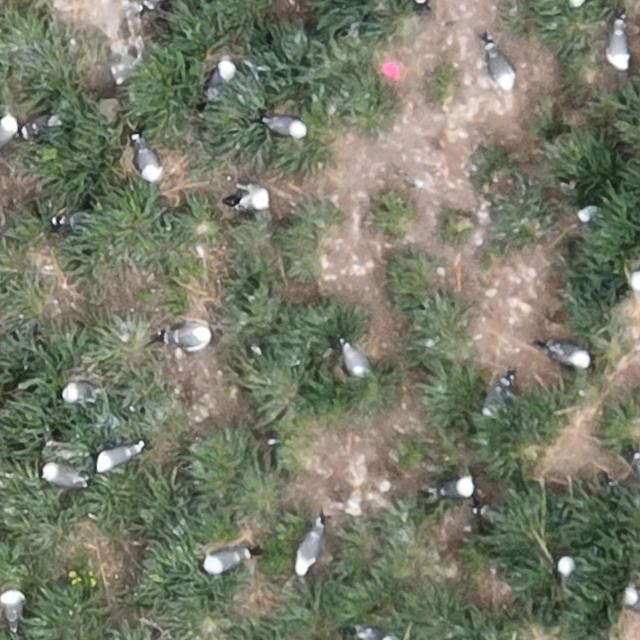umineko: (481, 375, 514, 416), (296, 527, 322, 571), (170, 325, 212, 348), (489, 48, 513, 87), (207, 549, 246, 571), (136, 144, 158, 181), (98, 446, 136, 467), (553, 344, 590, 365), (610, 29, 629, 67), (343, 346, 367, 376), (43, 466, 79, 486), (238, 187, 269, 210), (436, 477, 471, 497), (267, 118, 303, 136), (4, 593, 22, 628), (62, 382, 92, 401), (212, 62, 232, 89), (26, 114, 54, 133), (557, 558, 574, 586), (0, 116, 15, 146), (360, 627, 392, 639), (624, 586, 639, 610)
